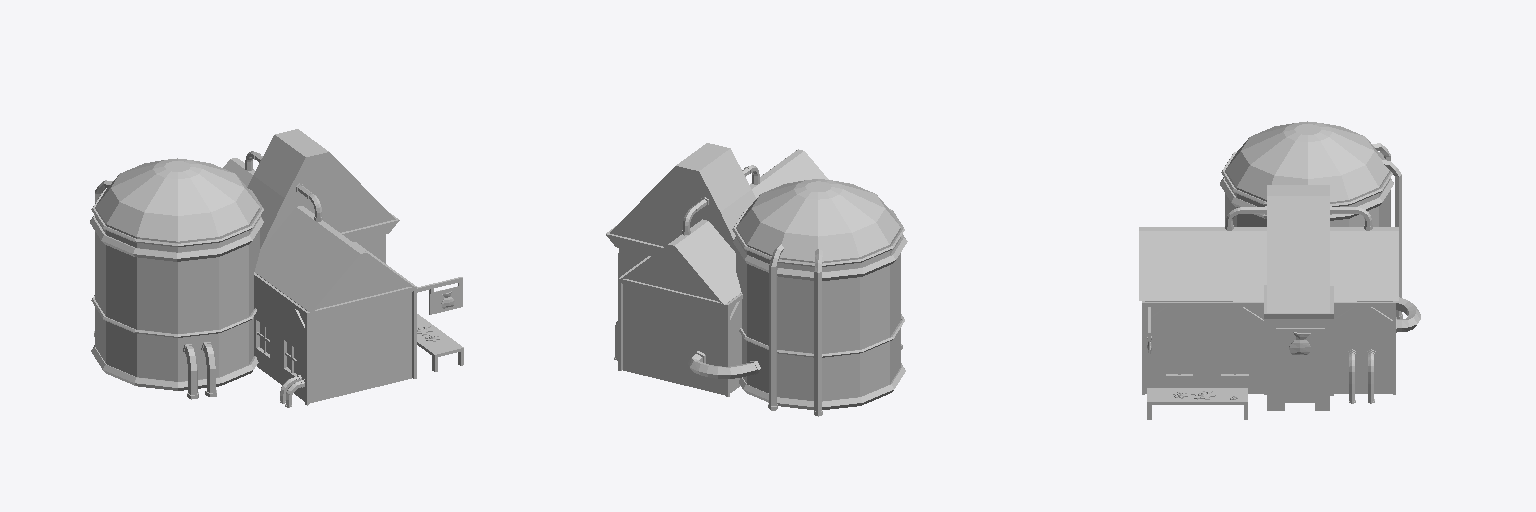
File: Shop.obj
3 renders of one model, left to right at view 1: azimuth 30°, elevation 25°; view 2: azimuth 150°, elevation 25°; view 3: azimuth 270°, elevation 25°, orthographic.
Parts seen in each view (by area): view 1: house, dome, pipes; view 2: dome, house, pipes; view 3: house, dome, pipes.
Part boxes in pixels (bbox=[...]): house: bbox=[223, 129, 463, 405]; dome: bbox=[90, 158, 263, 399]; pipes: bbox=[245, 151, 454, 407]; dome: bbox=[732, 179, 907, 416]; house: bbox=[606, 143, 828, 396]; pipes: bbox=[614, 165, 760, 378]; house: bbox=[1139, 185, 1398, 419]; dome: bbox=[1220, 121, 1402, 318]; pipes: bbox=[1147, 206, 1420, 403].
Bounding box in the file's own units: 15.87 × 10.19 × 13.7.